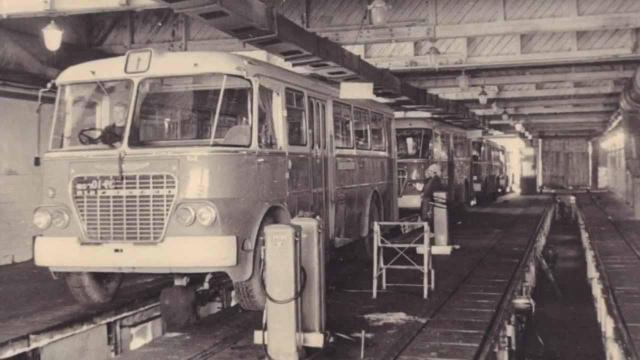bus: (29, 46, 401, 312)
